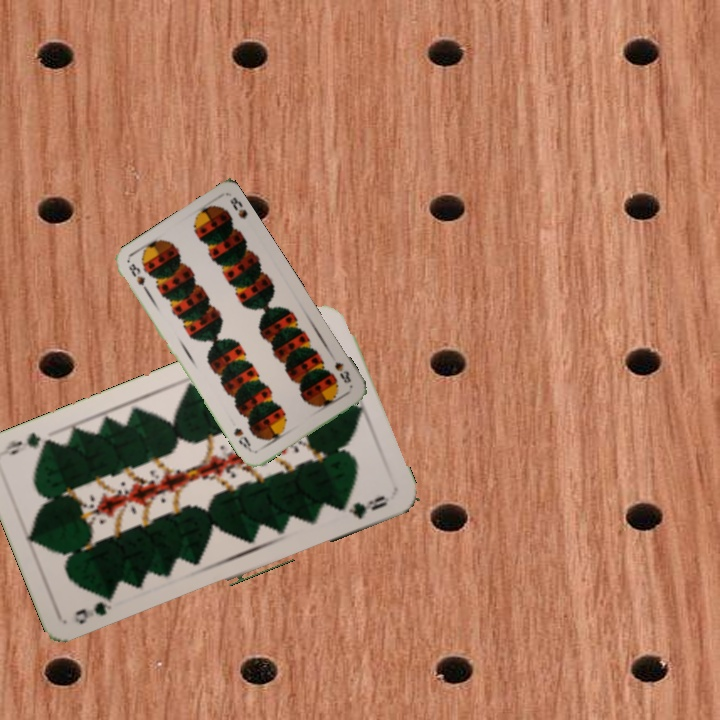G9: (70, 594, 118, 627)
S8: (124, 259, 152, 296), (330, 358, 354, 386)
